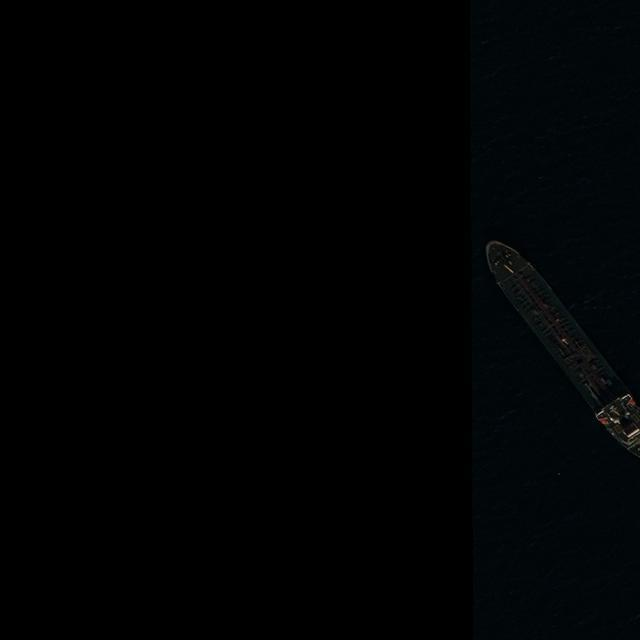Oil Tanker: (484, 242, 640, 458)
